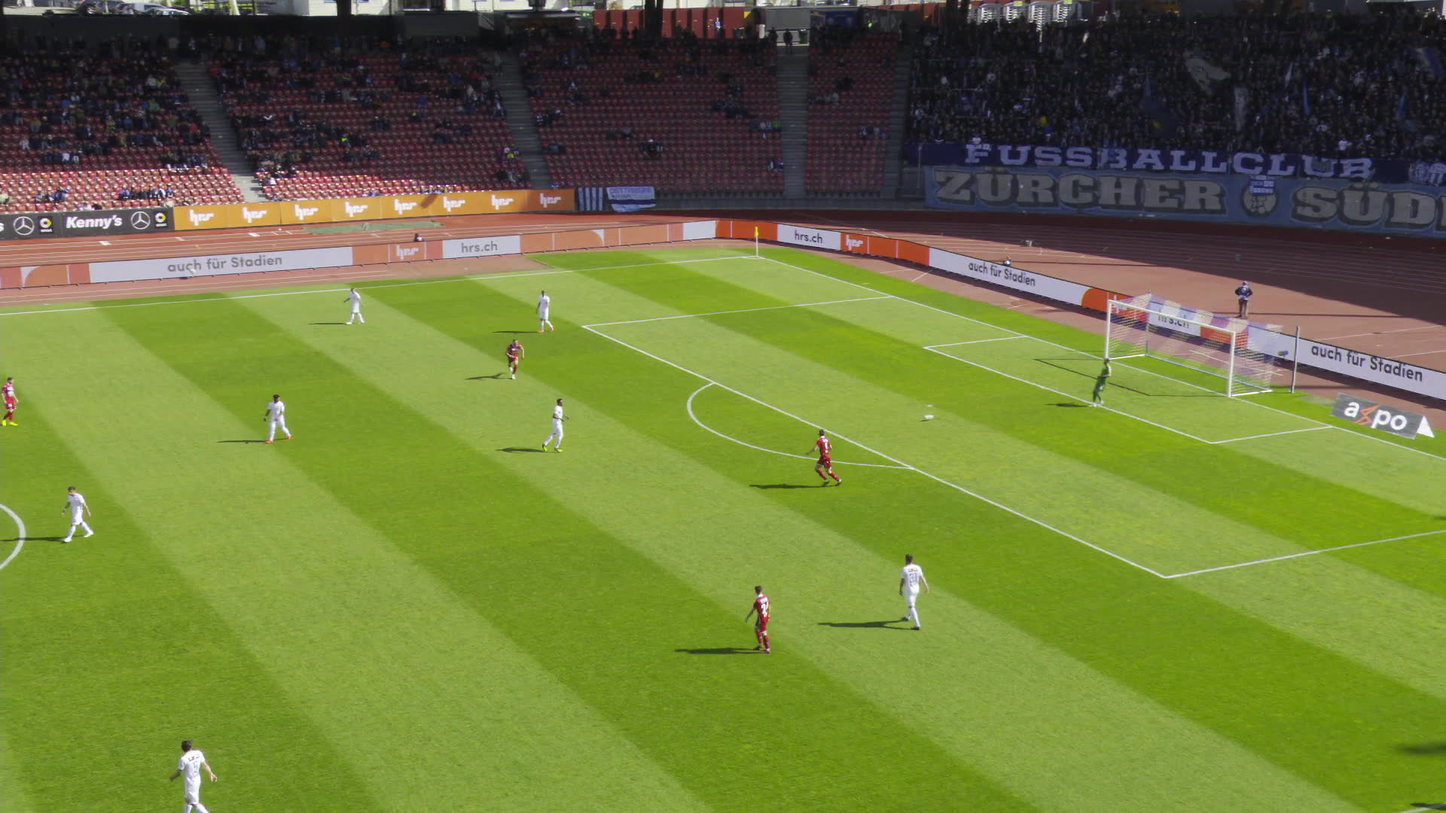ball: (924, 414, 934, 419)
player: (169, 738, 217, 812), (899, 553, 929, 630), (805, 428, 843, 486), (744, 585, 771, 653), (61, 486, 93, 541), (541, 398, 569, 452), (263, 394, 291, 443), (1087, 358, 1111, 406), (0, 376, 19, 426), (535, 290, 554, 333), (343, 287, 365, 324), (505, 339, 524, 379)
